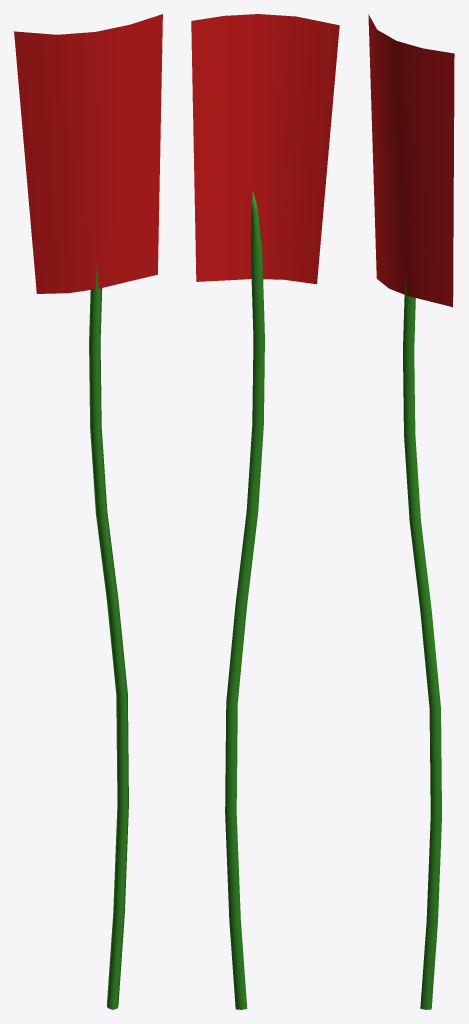
The model's file is SM_flower_plant_02.fbx.
3 renders of one model, left to right at view 1: azimuth 30°, elevation 25°; view 2: azimuth 210°, elevation 25°; view 3: azimuth 330°, elevation 25°, orthographic. The views are drawn at different scales.
Visible parts, largest first — view 1: Line031; view 2: Line031; view 3: Line031.
Boxes of the visible parts, x1,y1,x2,y2 form: Line031: [14, 14, 162, 1009]; Line031: [191, 14, 339, 1009]; Line031: [368, 14, 454, 1009].
Bounding box in the file's own units: 8.03 × 64.29 × 3.59.
